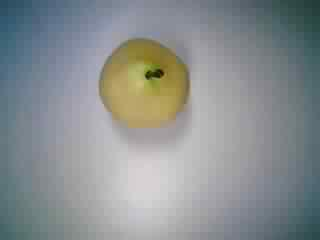pear: (91, 31, 197, 134)
